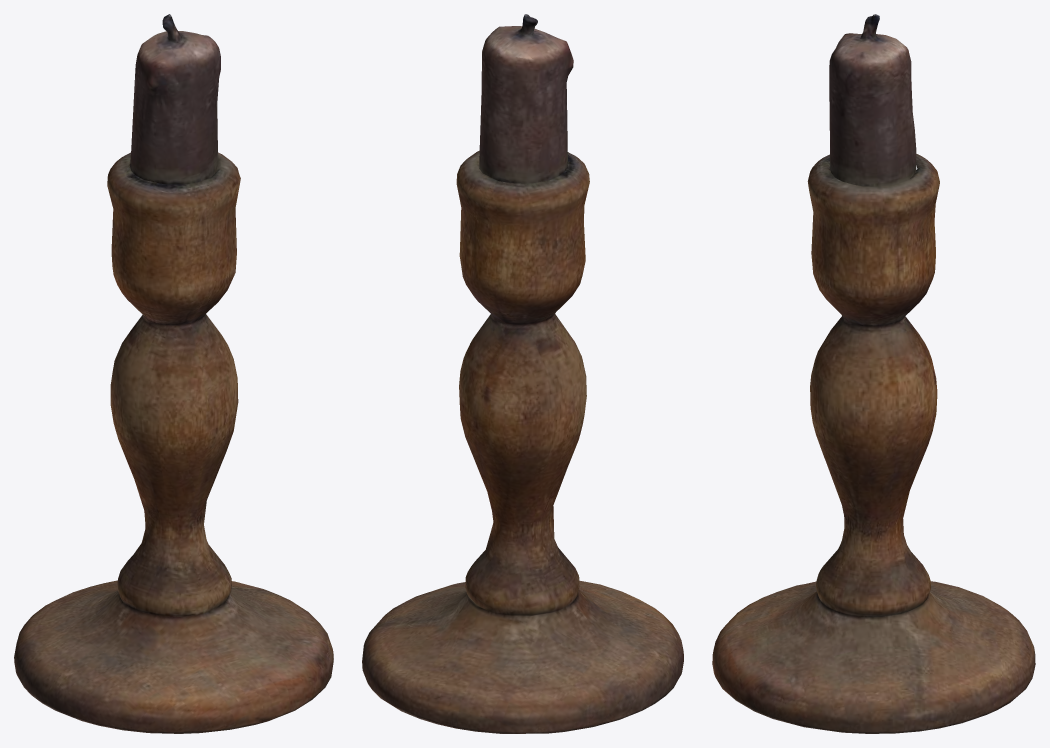
File: wooden_candlestick.glb
The picture shows the model from 3 angles, left to right: view 1: azimuth 30°, elevation 25°; view 2: azimuth 150°, elevation 25°; view 3: azimuth 270°, elevation 25°; orthographic projection.
Visible parts, largest first — view 1: wooden_candlestick; view 2: wooden_candlestick; view 3: wooden_candlestick.
Boxes of the visible parts, x1,y1,x2,y2 form: wooden_candlestick: (14, 14, 333, 733); wooden_candlestick: (362, 14, 683, 733); wooden_candlestick: (712, 14, 1035, 733).
Size of the model in its own units: 0.0971 by 0.2196 by 0.0986.
1 material, 1 textured.
